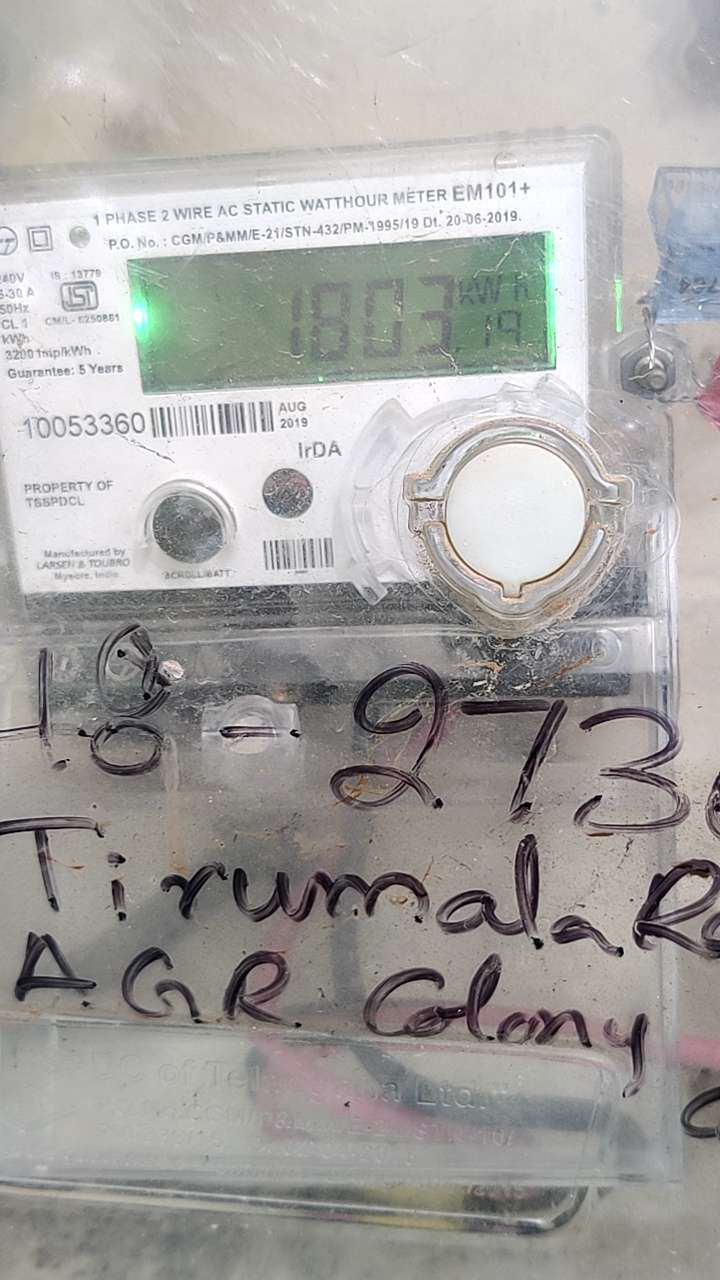meter_serial_number: (15, 410, 150, 444)
